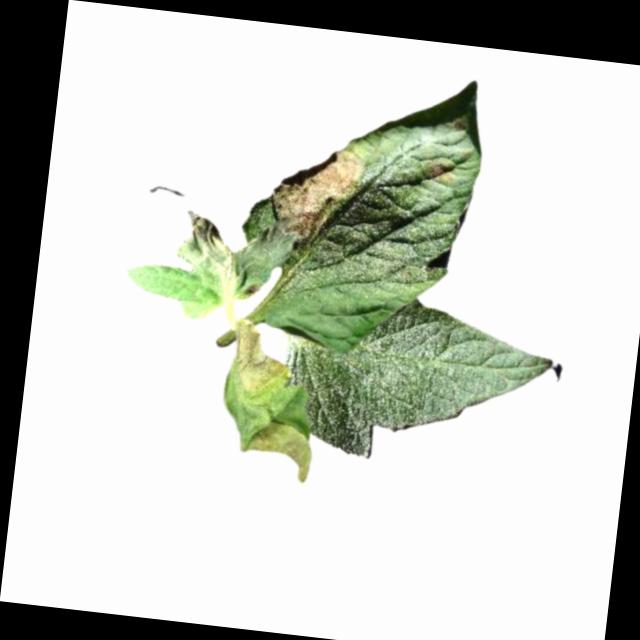Late_blight: (172, 208, 298, 307), (267, 141, 365, 257), (231, 401, 318, 484), (225, 314, 295, 406), (420, 157, 454, 186)
healthy: (274, 282, 557, 477)
